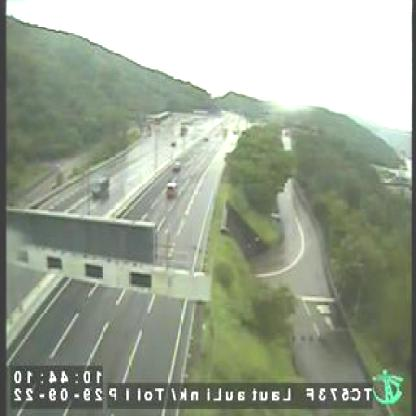Car: (166, 178, 182, 204)
